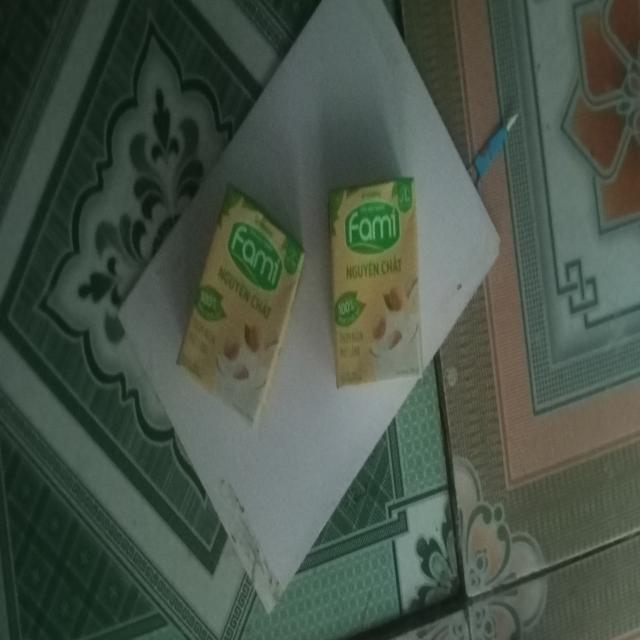Fami: (177, 184, 306, 434), (329, 182, 425, 389)
